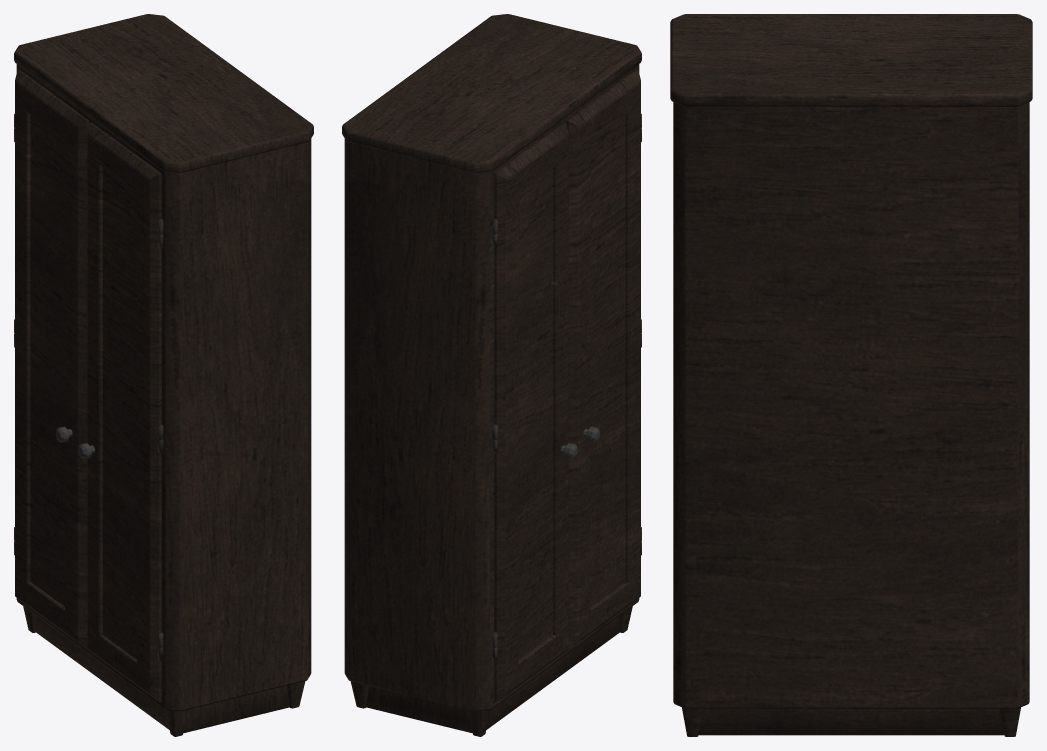
Rendered from wardrobe_6.obj.
The picture shows the model from 3 angles, left to right: view 1: azimuth 30°, elevation 25°; view 2: azimuth 150°, elevation 25°; view 3: azimuth 270°, elevation 25°; orthographic projection. The views are drawn at different scales.
Visible parts, largest first — view 1: wardrobe_6, wardrobe_6_door_2, wardrobe_6_door_1; view 2: wardrobe_6, wardrobe_6_door_1, wardrobe_6_door_2; view 3: wardrobe_6.
Part boxes in pixels (x1,y1,x2,y2): wardrobe_6: (14, 14, 313, 736); wardrobe_6_door_2: (78, 122, 163, 702); wardrobe_6_door_1: (14, 69, 89, 649); wardrobe_6: (342, 14, 641, 736); wardrobe_6_door_1: (492, 122, 577, 702); wardrobe_6_door_2: (566, 69, 641, 649); wardrobe_6: (670, 14, 1032, 736).
Size of the model in its own units: 0.79 by 2.57 by 1.3.
